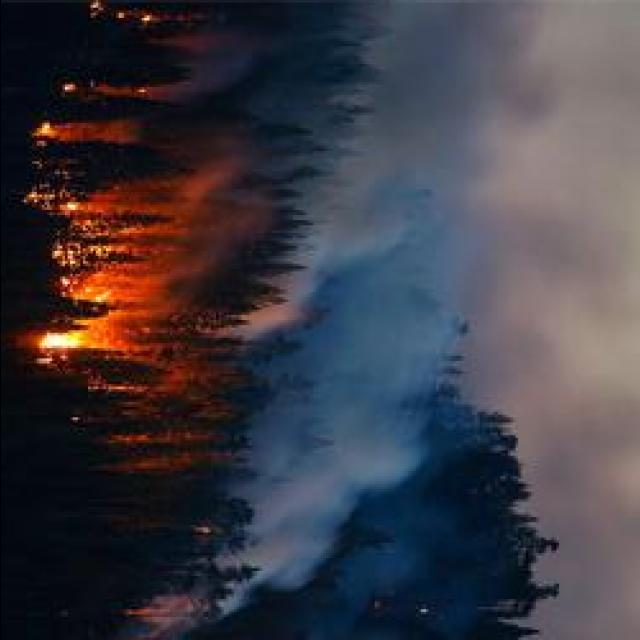fire: (32, 320, 114, 356), (36, 118, 142, 144)
smoke: (399, 0, 546, 141), (346, 306, 436, 506), (253, 418, 340, 592), (520, 212, 624, 329), (552, 490, 636, 632), (317, 175, 414, 272), (542, 395, 618, 500), (422, 187, 484, 275), (200, 38, 243, 84)
